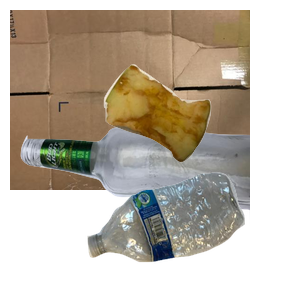cardboard: (10, 10, 250, 190)
glass: (18, 124, 258, 300)
plastic: (85, 170, 300, 300)
trash: (101, 62, 300, 217)
